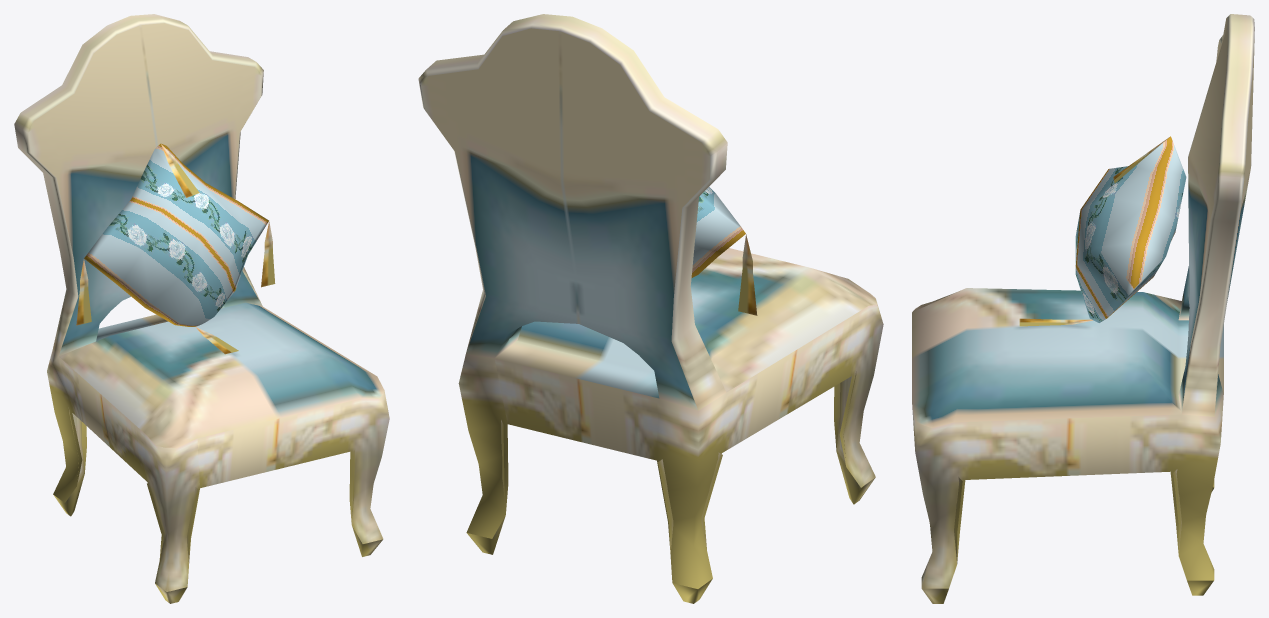
File: int_pri_chairS.dae
The picture shows the model from 3 angles, left to right: view 1: azimuth 30°, elevation 25°; view 2: azimuth 150°, elevation 25°; view 3: azimuth 270°, elevation 25°; orthographic projection. The views are drawn at different scales.
Visible parts, largest first — view 1: int_pri_chairS; view 2: int_pri_chairS; view 3: int_pri_chairS.
Part boxes in pixels (left/top/right/bottom): int_pri_chairS: left=14, top=14, right=389, bottom=603; int_pri_chairS: left=418, top=14, right=883, bottom=603; int_pri_chairS: left=912, top=14, right=1254, bottom=603.
Size of the model in its own units: 20.32 by 37.2 by 21.99.
2 materials, 2 textured.
